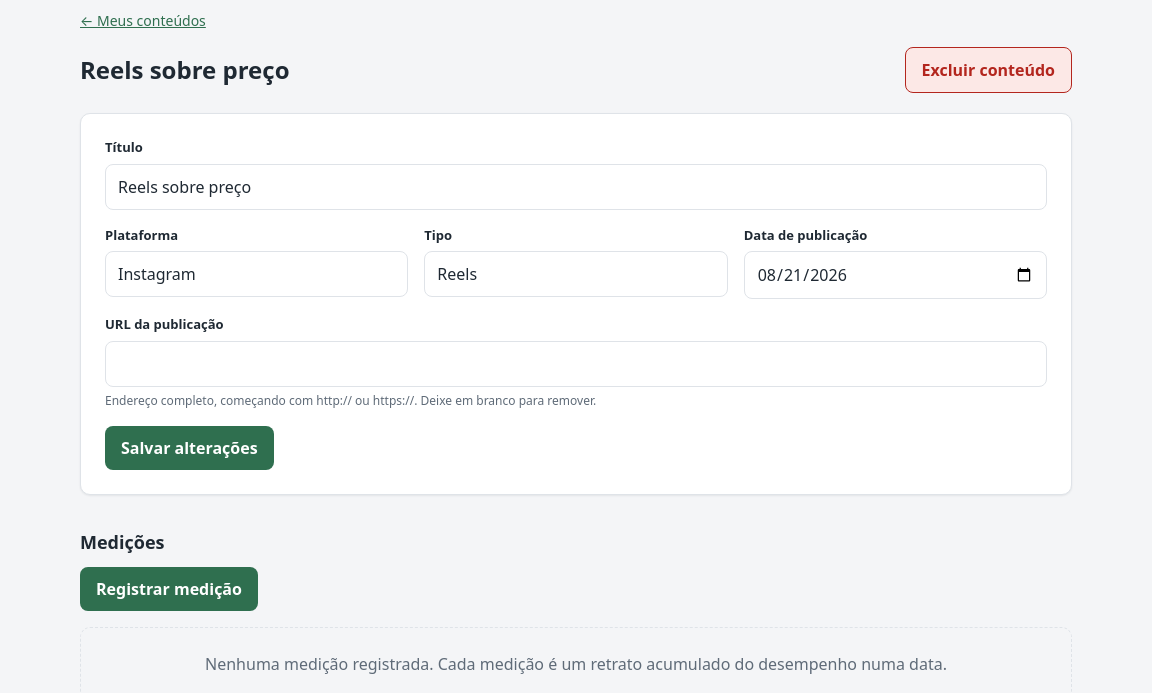
ConteudoDetalhe › explica o que fazer quando a data já tem medição
Step 1. Click the button "Registrar medição" → (169,589), box [80,567,258,611]
(page scrolled)
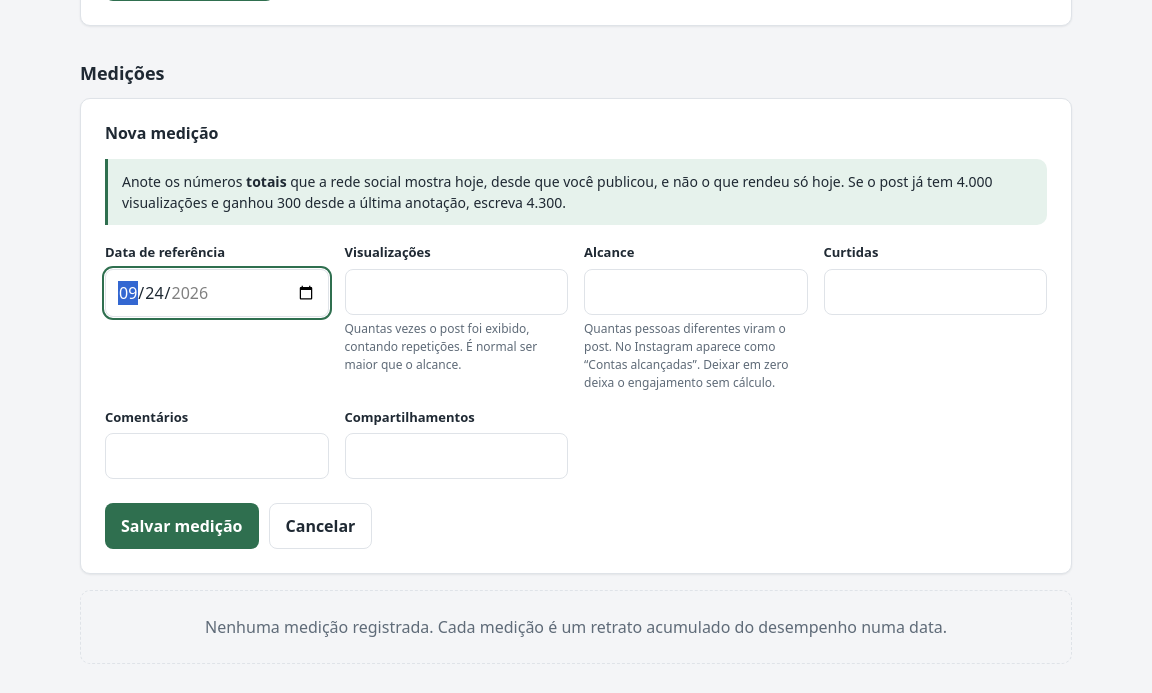
Step 2. Type "3200" into the number field labelled "Visualizações" → (456,292), box [344,268,568,314]
Step 3. Type "1450" into the number field labelled "Alcance" → (696,292), box [584,268,808,314]
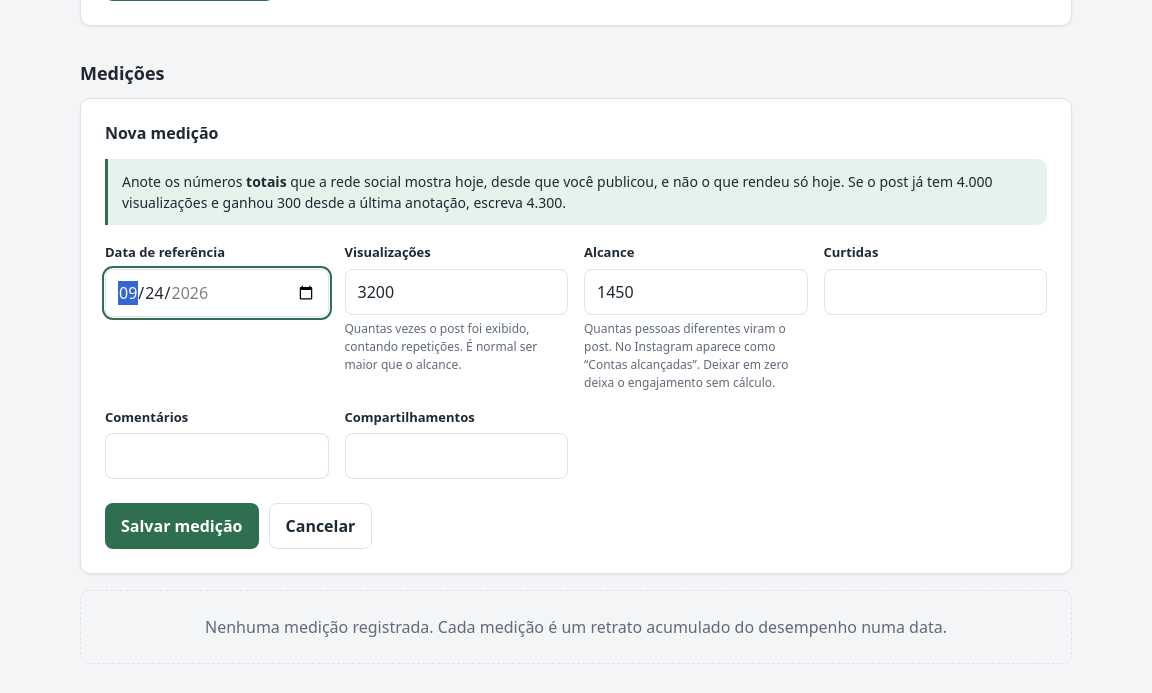
Step 4. Type "110" into the number field labelled "Curtidas" → (935,292), box [824,268,1047,314]
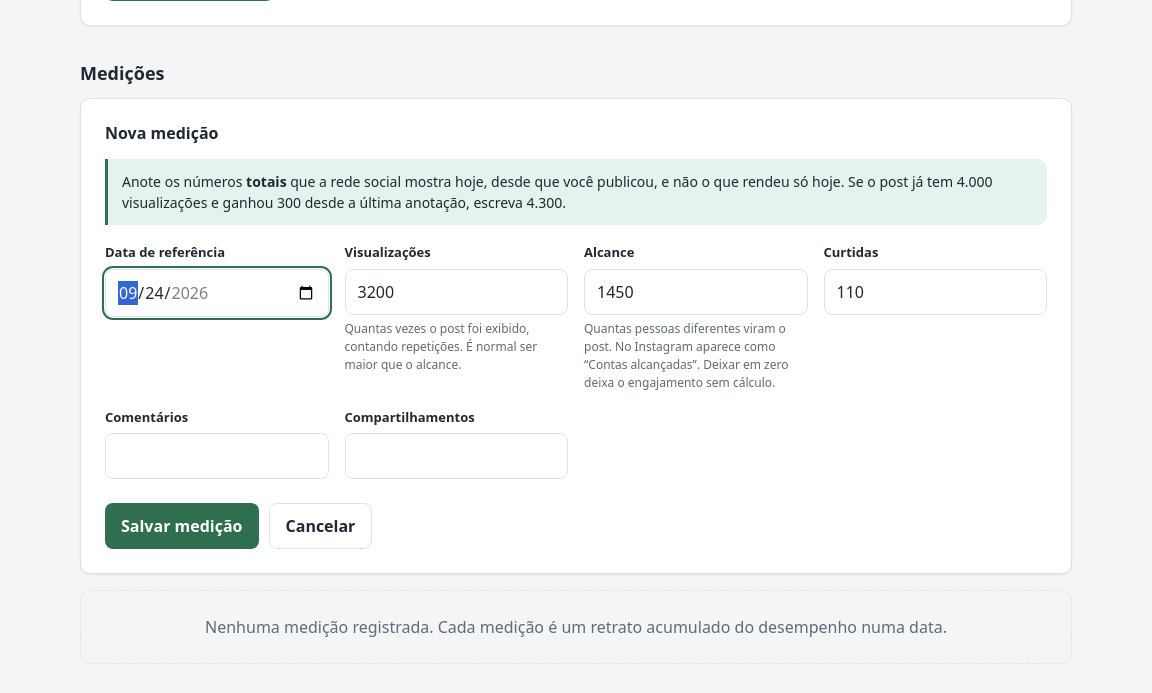
Step 5. Type "14" into the number field labelled "Comentários" → (217,456), box [105,433,328,479]
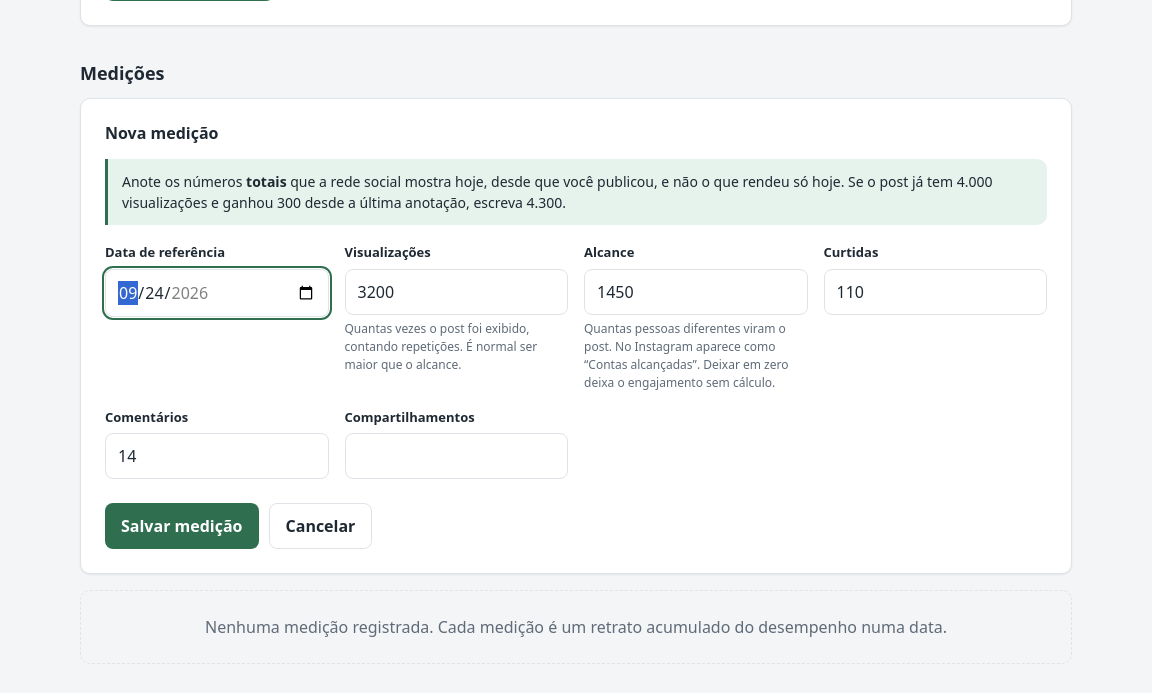
Step 6. Type "22" into the number field labelled "Compartilhamentos" → (456,456), box [344,433,568,479]
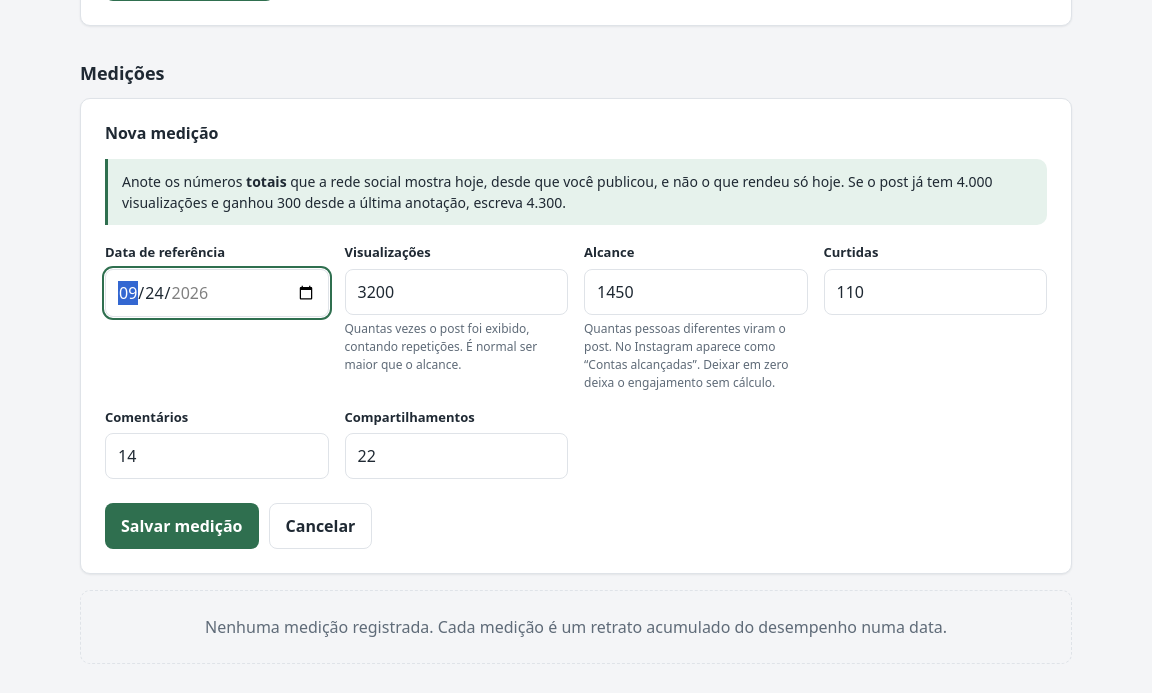
Step 7. Click the button "Salvar medição" → (182,526), box [105,503,258,549]
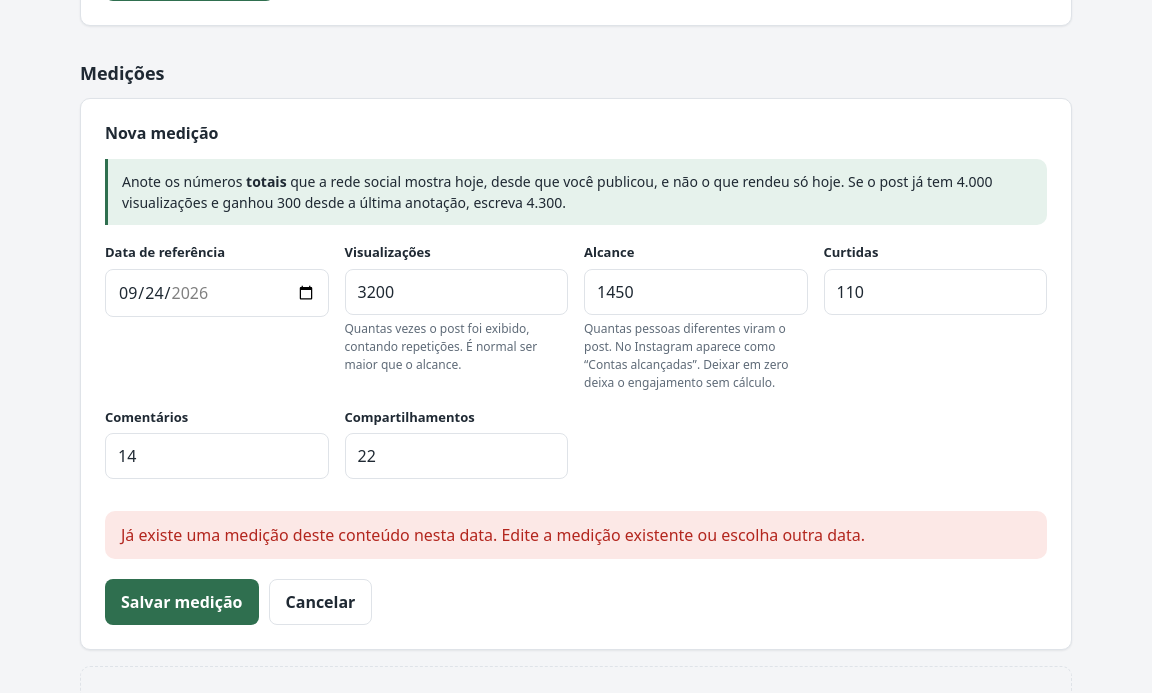
Result: the text "Edite a medição existente ou escolha outra data" is shown at [121,524,865,546]
